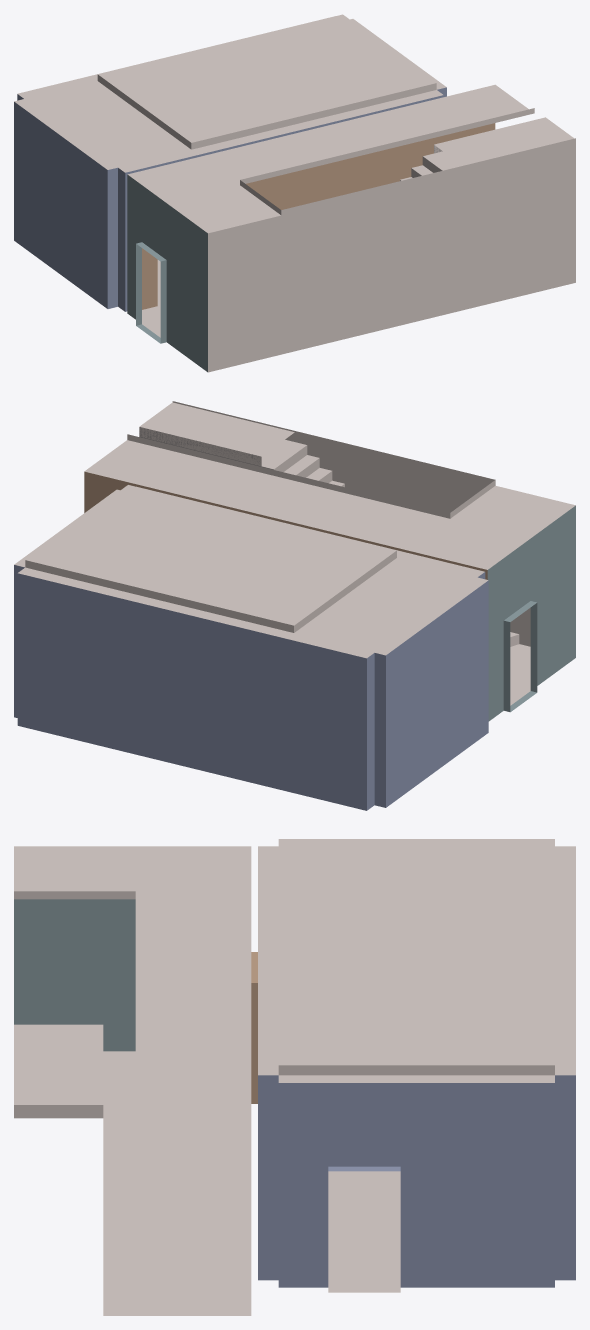
File: GYM.fbx
The picture shows the model from 3 angles, top to bottom: view 1: azimuth 30°, elevation 25°; view 2: azimuth 150°, elevation 25°; view 3: azimuth 270°, elevation 25°; orthographic projection. The views are drawn at different scales.
Parts seen in each view (by area): view 1: Gym; view 2: Gym; view 3: Gym.
Boxes of the visible parts, box(x1,y1,x2,y2) form: Gym: box(14, 14, 575, 372); Gym: box(14, 401, 575, 810); Gym: box(14, 839, 575, 1315).
Bounding box in the file's own units: 1302 × 480 × 1137.
